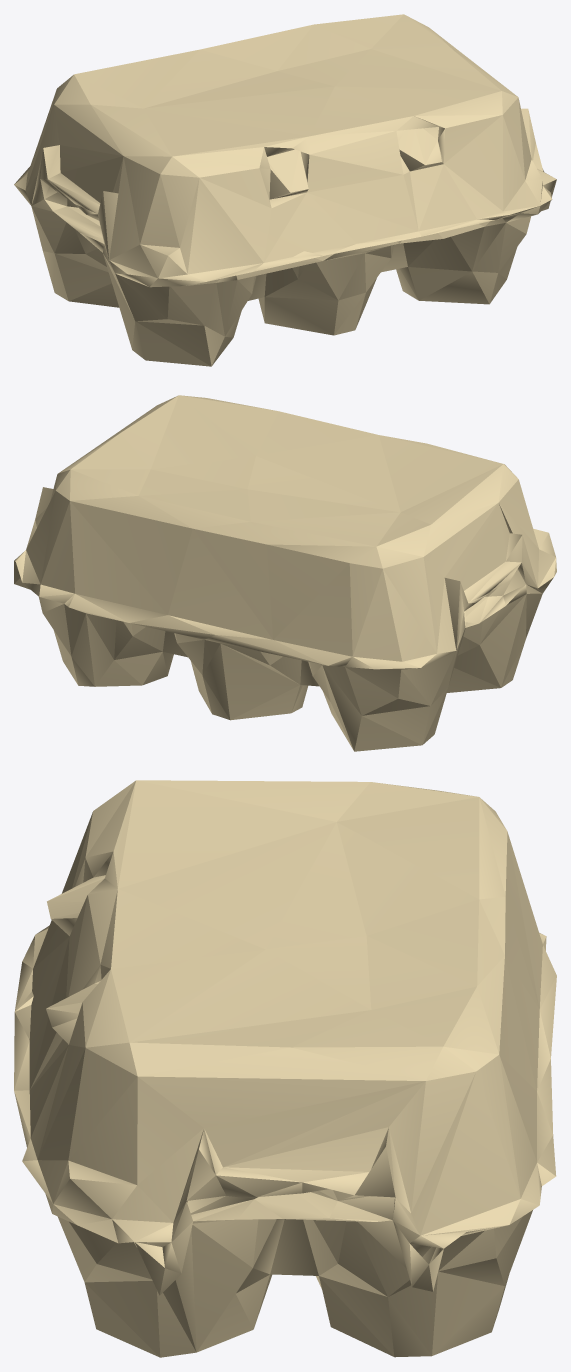
File: eggs.fbx
3 views of the same model, one above another, from view 1: azimuth 30°, elevation 25°; view 2: azimuth 150°, elevation 25°; view 3: azimuth 270°, elevation 25° (orthographic). The views are drawn at different scales.
Visible parts, largest first — view 1: BoiteOeufs_LOW_UV; view 2: BoiteOeufs_LOW_UV; view 3: BoiteOeufs_LOW_UV.
Part boxes in pixels (x1,y1,x2,y2): BoiteOeufs_LOW_UV: [14, 14, 556, 366]; BoiteOeufs_LOW_UV: [14, 395, 556, 751]; BoiteOeufs_LOW_UV: [14, 780, 556, 1357].
Bounding box in the file's own units: 2966 × 1365 × 2076.
